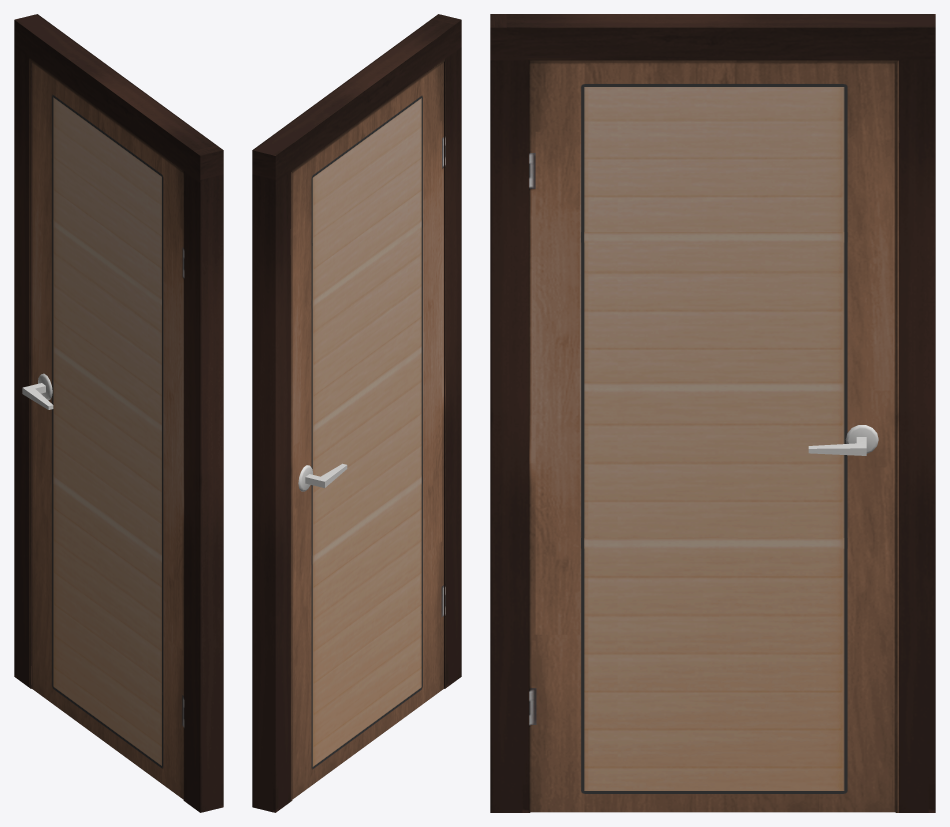
Rendered from Door_I.FBX.
3 views of the same model, side by side, from view 1: azimuth 30°, elevation 25°; view 2: azimuth 150°, elevation 25°; view 3: azimuth 270°, elevation 25° (orthographic). The views are drawn at different scales.
Visible parts, largest first — view 1: Door_I, Door_I1; view 2: Door_I, Door_I1; view 3: Door_I, Door_I1.
Part boxes in pixels (x1=…): Door_I: x1=22, y1=62, x2=183, y2=799; Door_I1: x1=14, y1=14, x2=223, y2=812; Door_I: x1=292, y1=62, x2=443, y2=799; Door_I1: x1=252, y1=14, x2=461, y2=812; Door_I: x1=530, y1=62, x2=895, y2=812; Door_I1: x1=490, y1=14, x2=935, y2=812.
Size of the model in its own units: 10.71 by 104 by 53.51.
